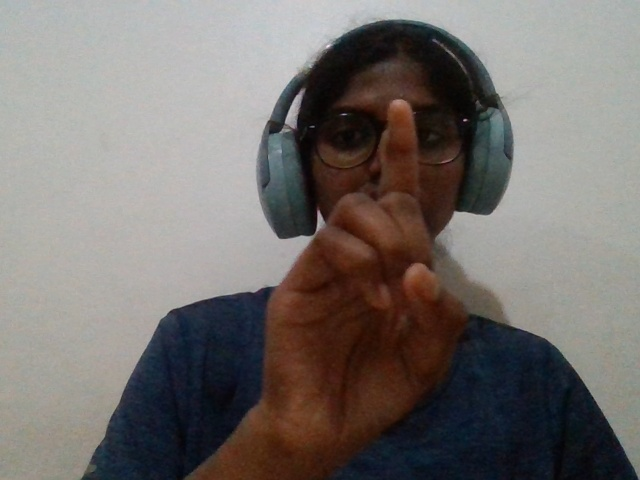D: (237, 81, 483, 473)
